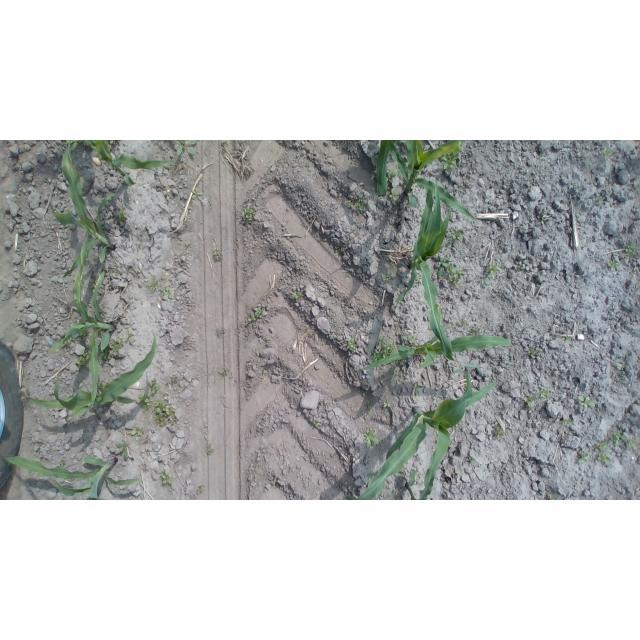Maize: (342, 369, 496, 500), (395, 177, 481, 368), (24, 330, 158, 419), (49, 141, 116, 284), (52, 266, 119, 406), (354, 324, 518, 368), (389, 141, 476, 222), (5, 455, 143, 500), (88, 140, 174, 186), (377, 140, 396, 198), (405, 469, 436, 500)
Weeds: (154, 398, 178, 427), (374, 337, 397, 362), (434, 252, 453, 280), (448, 267, 469, 290), (605, 430, 628, 447), (177, 140, 198, 156), (137, 393, 154, 412), (241, 207, 257, 226), (363, 429, 379, 447), (349, 197, 366, 213), (486, 259, 502, 275), (443, 154, 459, 170), (248, 307, 264, 323), (144, 277, 160, 293), (110, 338, 125, 355), (75, 350, 89, 368), (117, 442, 132, 458), (450, 226, 465, 242), (579, 396, 597, 409), (624, 244, 639, 259), (161, 286, 176, 301), (148, 376, 160, 394), (160, 469, 174, 484), (597, 452, 611, 466), (214, 328, 229, 341), (608, 258, 621, 272), (118, 208, 131, 222), (204, 443, 217, 456), (410, 380, 424, 392), (212, 248, 223, 263), (388, 168, 398, 184), (578, 452, 590, 465), (538, 388, 551, 400), (192, 188, 205, 200), (346, 338, 358, 350), (595, 442, 609, 452), (603, 147, 613, 161), (495, 424, 504, 439), (130, 428, 145, 437), (525, 395, 535, 408), (528, 347, 539, 358), (389, 491, 402, 500), (196, 485, 206, 496), (101, 350, 112, 360), (217, 368, 229, 377), (389, 188, 397, 201), (627, 437, 637, 447), (470, 324, 480, 334), (293, 292, 304, 301), (126, 331, 135, 342), (168, 375, 179, 384), (617, 365, 631, 372), (562, 416, 572, 425), (365, 402, 374, 412), (79, 331, 89, 340), (459, 317, 468, 326), (407, 334, 416, 343), (562, 335, 573, 342), (334, 247, 344, 254), (485, 277, 492, 287), (468, 456, 475, 465), (416, 272, 422, 282), (547, 493, 555, 500), (383, 402, 391, 409), (386, 274, 393, 282), (131, 267, 138, 274), (517, 265, 524, 272), (313, 419, 319, 427), (492, 294, 498, 302), (114, 268, 120, 276), (541, 217, 547, 224), (223, 141, 231, 146), (525, 324, 531, 330), (345, 272, 351, 278), (599, 196, 606, 201), (538, 153, 543, 158), (167, 196, 172, 201), (110, 140, 116, 144), (164, 190, 170, 194), (186, 242, 191, 246), (637, 183, 640, 189)
